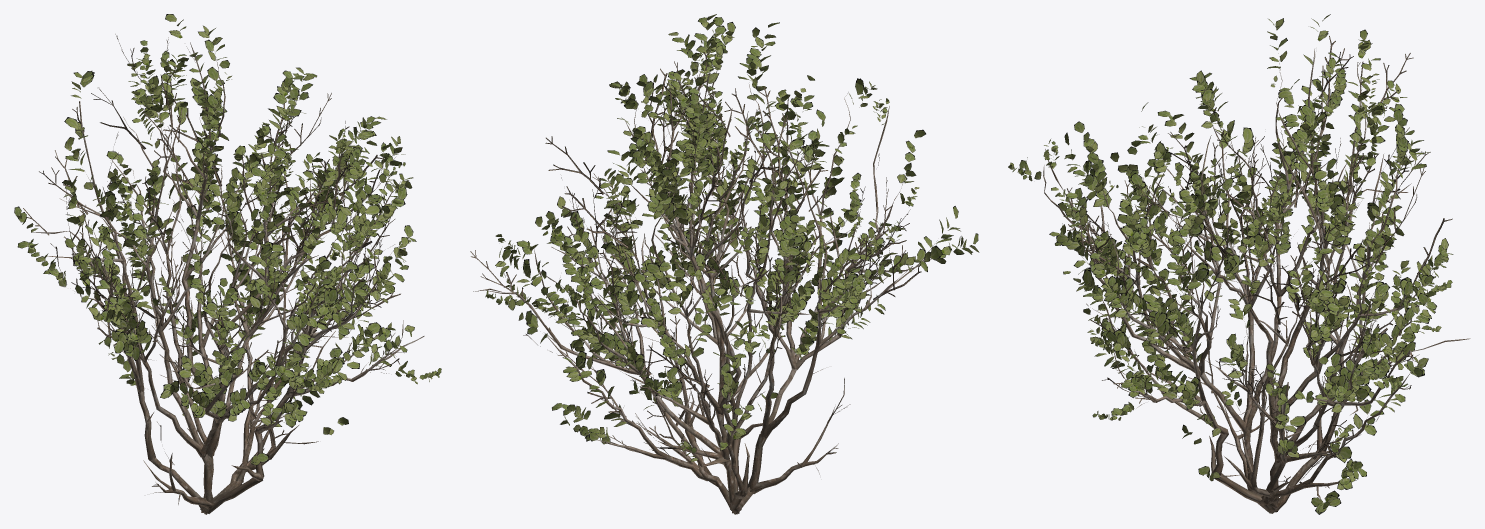
Rendered from searsia_lucida.glb.
3 views of the same model, side by side, from view 1: azimuth 30°, elevation 25°; view 2: azimuth 150°, elevation 25°; view 3: azimuth 270°, elevation 25° (orthographic). The views are drawn at different scales.
Parts seen in each view (by area): view 1: searsia_lucida; view 2: searsia_lucida; view 3: searsia_lucida.
Boxes of the visible parts, x1,y1,x2,y2 form: searsia_lucida: [14, 14, 441, 514]; searsia_lucida: [470, 14, 979, 514]; searsia_lucida: [1008, 14, 1470, 514].
Bounding box in the file's own units: 1.82 × 2.34 × 1.96.
Materials: 3 (3 with a texture image).
